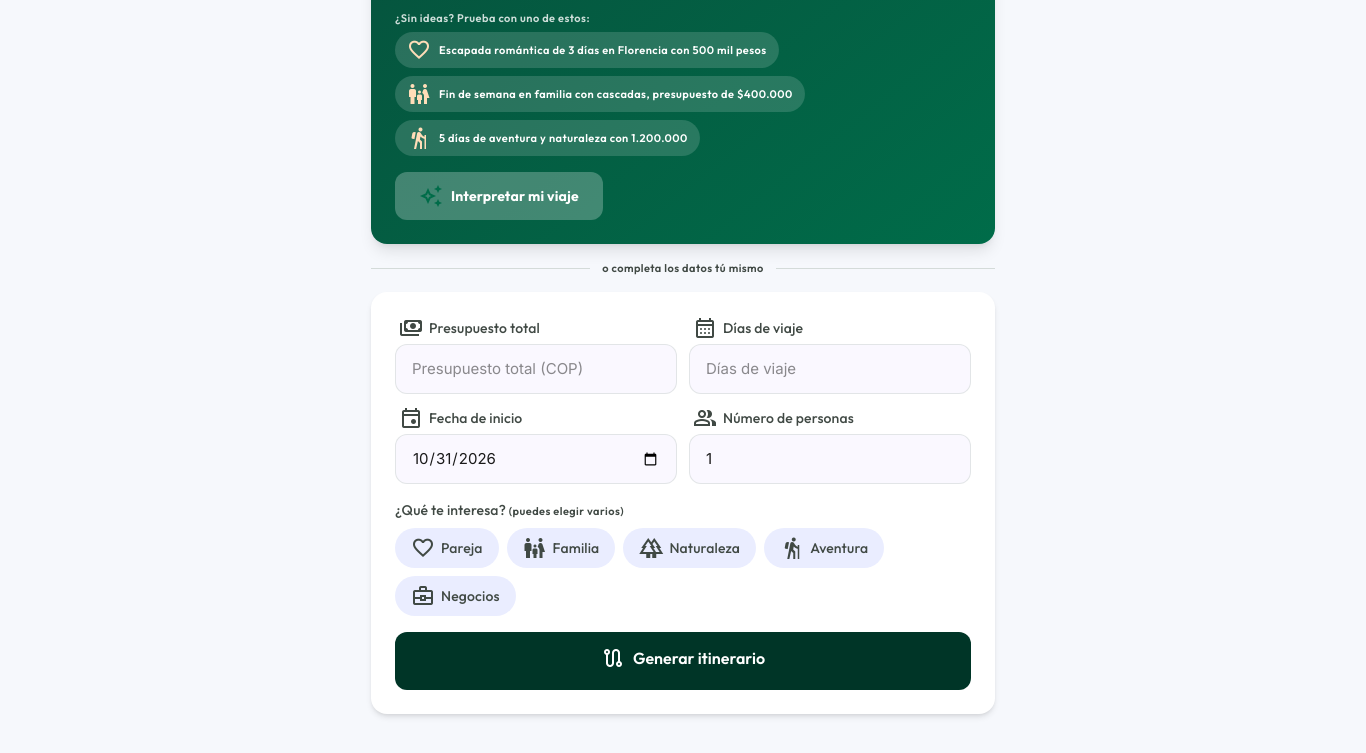
Itinerario: resultado › agrupa las actividades por día con su fecha real y cada precio es por el grupo
The width and height of the screenshot is (1366, 753).
(page scrolled)
Type "200000" into the number field with placeholder "Presupuesto total (COP)". click: (536, 369)
box: top-left (395, 344), bottom-right (677, 394)
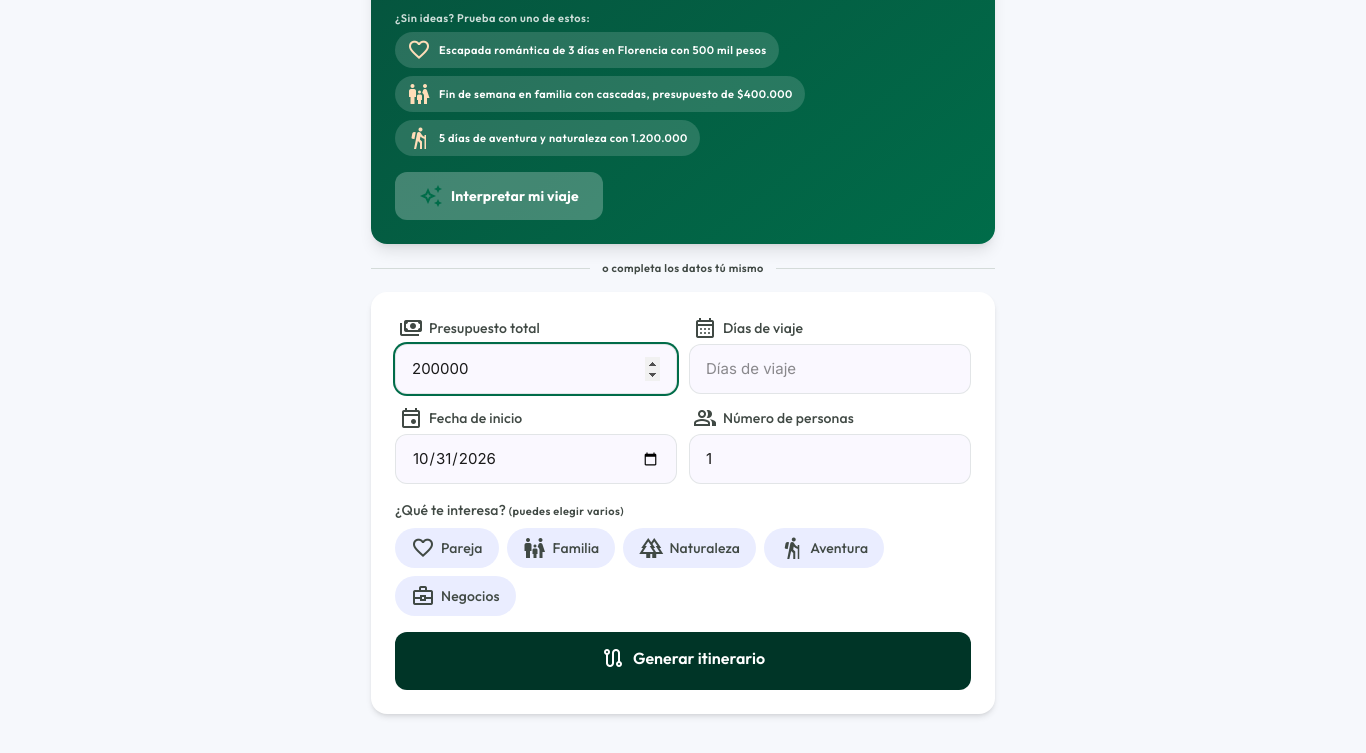
Type "2" into the number field with placeholder "Días de viaje". click: (830, 369)
box: top-left (689, 344), bottom-right (971, 394)
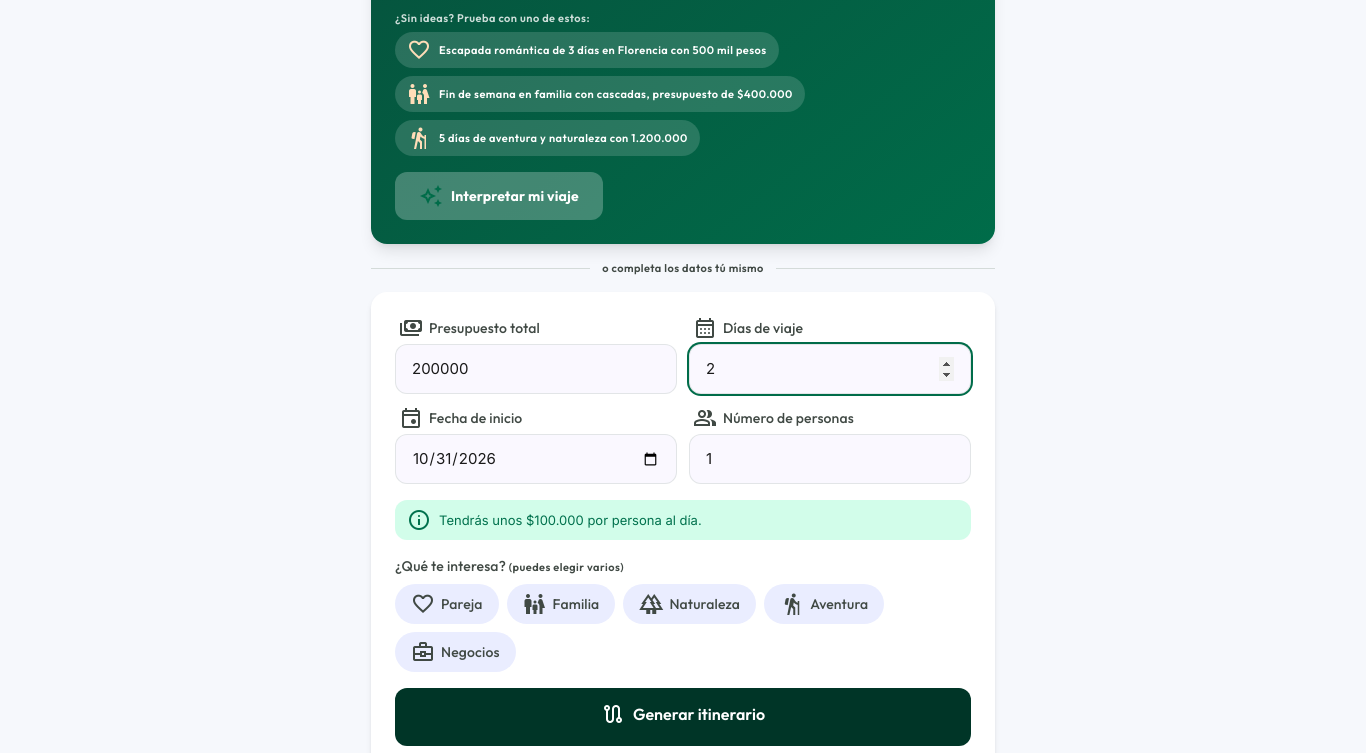
Click the button "Generar itinerario". click: click(683, 717)
box: top-left (395, 688), bottom-right (971, 746)
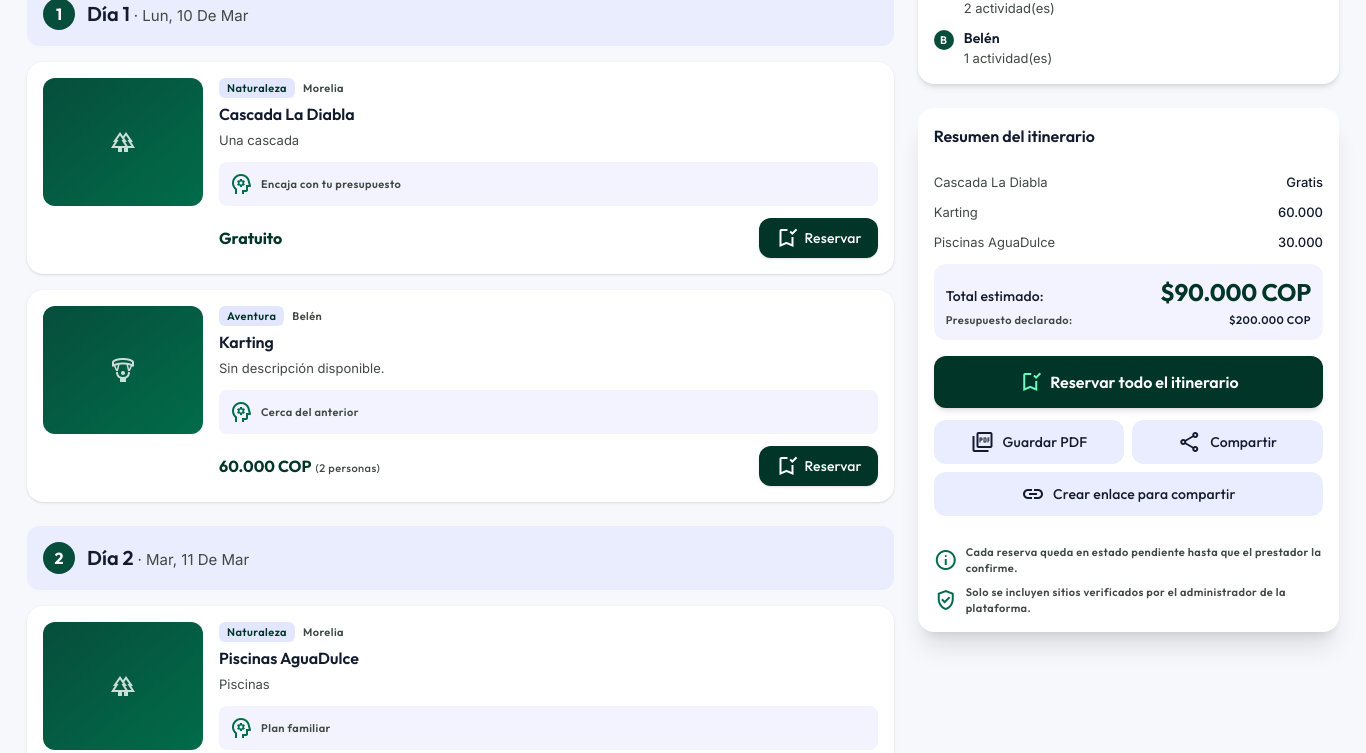
Now the text "Gratuito" is shown, box top-left (219, 226), bottom-right (282, 250)
Now the text "60.000 COP" is shown, box top-left (219, 456), bottom-right (312, 476)
Now the text "(2 personas)" is shown, box top-left (316, 461), bottom-right (380, 475)
